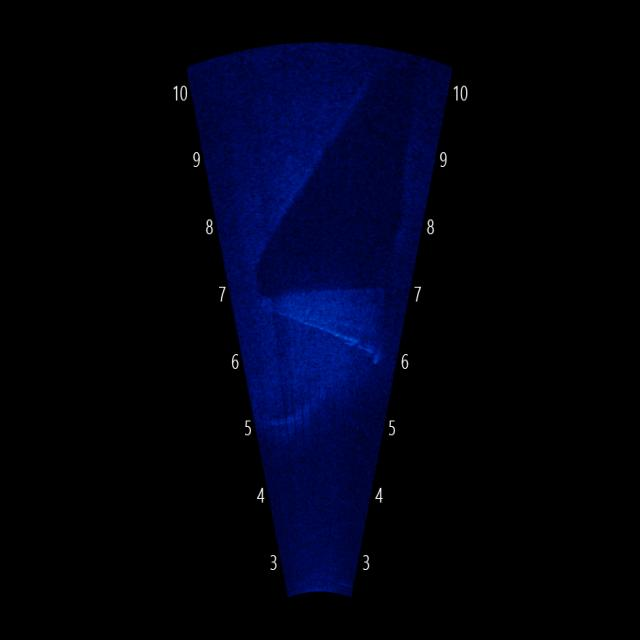triangle: (249, 277, 396, 363)
